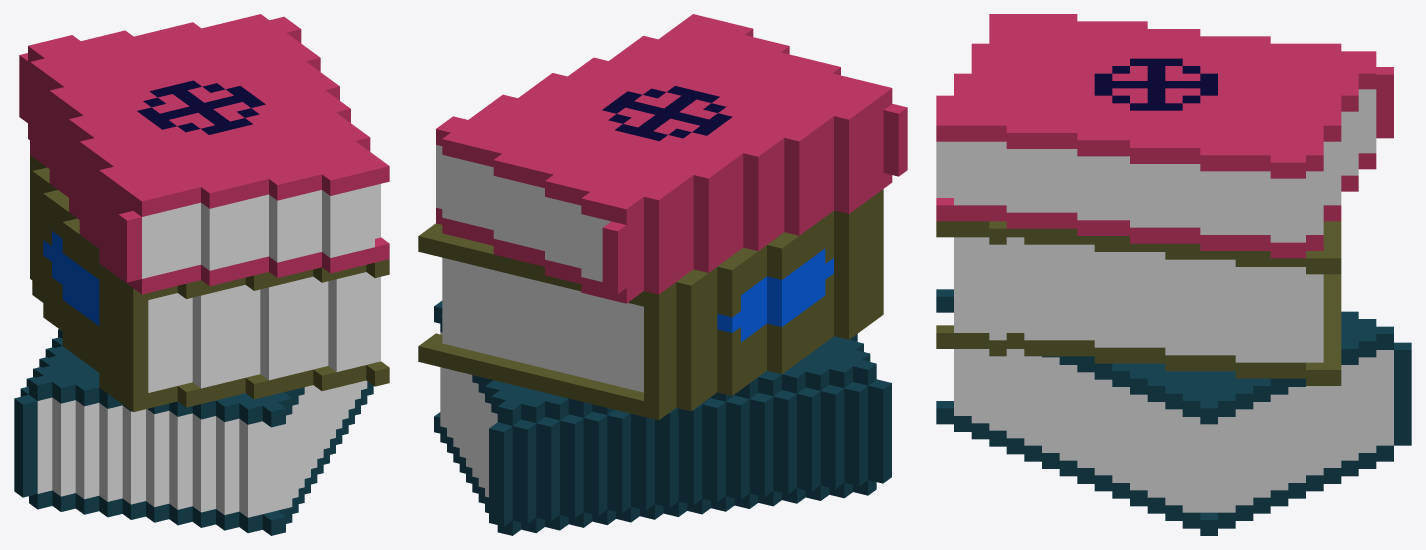
The model's file is books.obj.
3 renders of one model, left to right at view 1: azimuth 30°, elevation 25°; view 2: azimuth 150°, elevation 25°; view 3: azimuth 270°, elevation 25°, orthographic. The views are drawn at different scales.
Size of the model in its own units: 2.7 by 2.2 by 2.7.
Materials: 1 (1 with a texture image).
